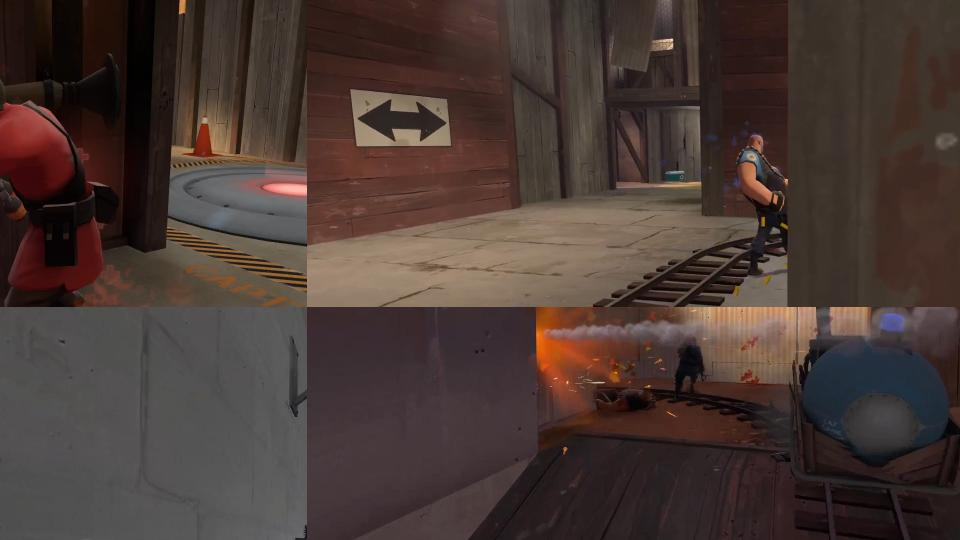Enemy: (0, 50, 126, 307), (735, 133, 788, 279), (674, 335, 707, 395), (596, 385, 658, 411)
